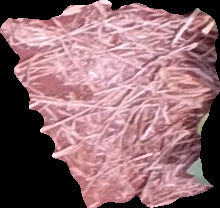soil: (1, 1, 220, 207)
